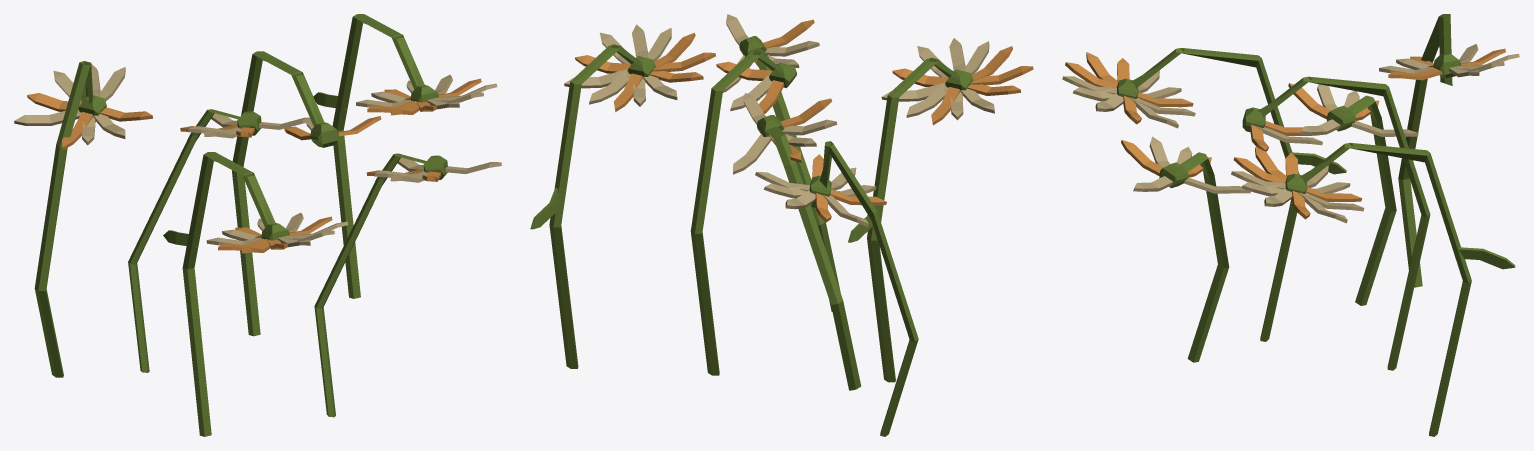
File: margaritas_marchitas.fbx
3 views of the same model, side by side, from view 1: azimuth 30°, elevation 25°; view 2: azimuth 150°, elevation 25°; view 3: azimuth 270°, elevation 25° (orthographic).
Parts seen in each view (by area): view 1: Cylinder.008, Cylinder.001, Cylinder.014, Cylinder.011, Cylinder.009, Cylinder.013; view 2: Cylinder.014, Cylinder.001, Cylinder.008, Cylinder.011, Cylinder.013, Cylinder.009; view 3: Cylinder.014, Cylinder.001, Cylinder.008, Cylinder.011, Cylinder.009, Cylinder.013.
Part boxes in pixels (box(x1,y1,x2,y2)): Cylinder.008: box(14, 61, 152, 377); Cylinder.001: box(163, 152, 348, 436); Cylinder.014: box(313, 14, 497, 298); Cylinder.011: box(232, 51, 381, 336); Cylinder.009: box(314, 153, 501, 417); Cylinder.013: box(128, 109, 311, 372); Cylinder.014: box(530, 24, 715, 368); Cylinder.001: box(848, 38, 1033, 382); Cylinder.008: box(755, 141, 918, 436); Cylinder.011: box(690, 51, 796, 375); Cylinder.013: box(733, 93, 861, 390); Cylinder.009: box(723, 14, 840, 311); Cylinder.014: box(1231, 142, 1515, 436); Cylinder.001: box(1062, 48, 1346, 341); Cylinder.008: box(1379, 14, 1519, 287); Cylinder.011: box(1242, 76, 1430, 370); Cylinder.009: box(1121, 136, 1250, 362); Cylinder.013: box(1288, 83, 1418, 305).
Bounding box in the file's own units: 85.79 × 65.93 × 86.9.
